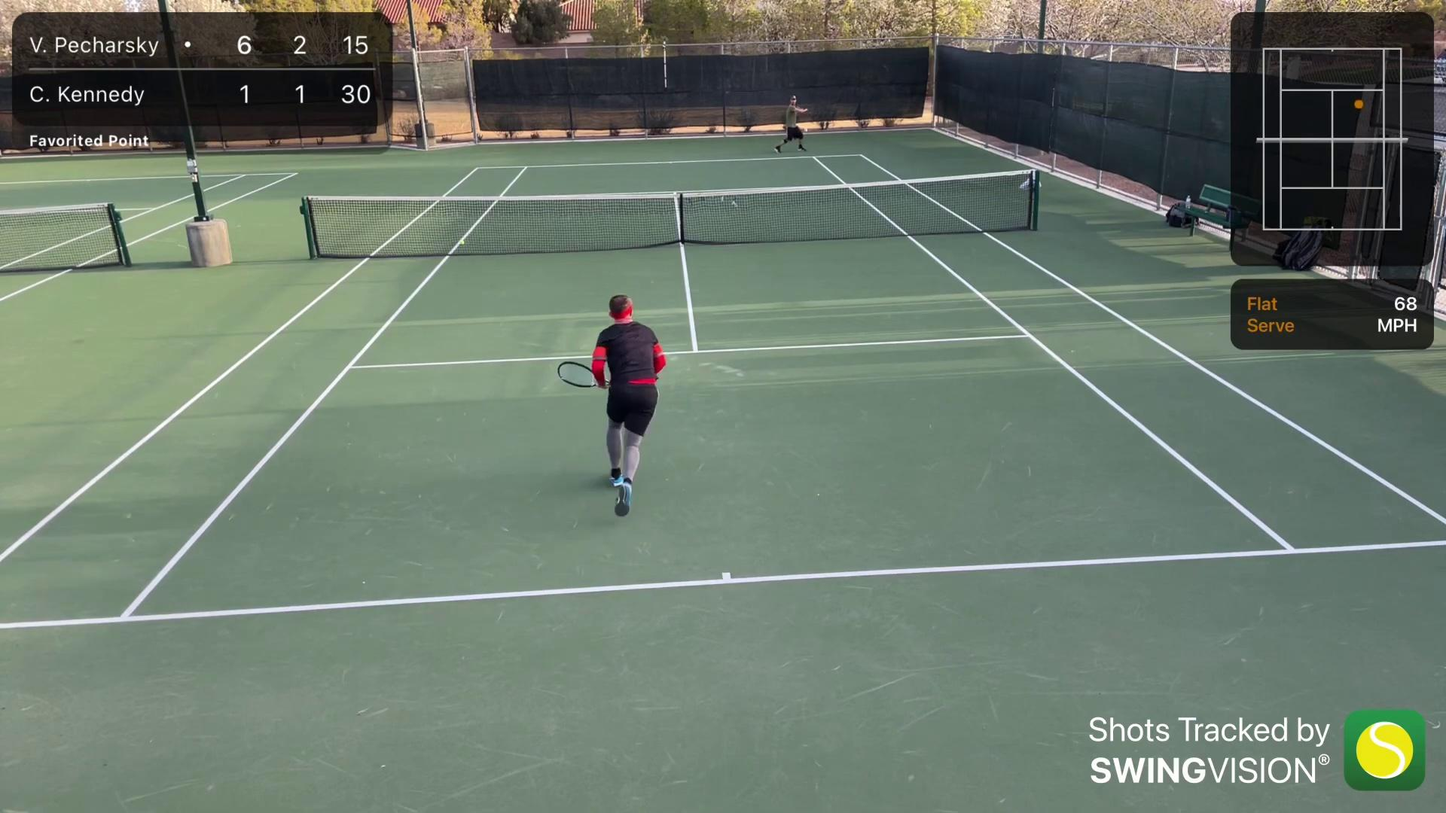ball: (802, 127, 809, 132)
